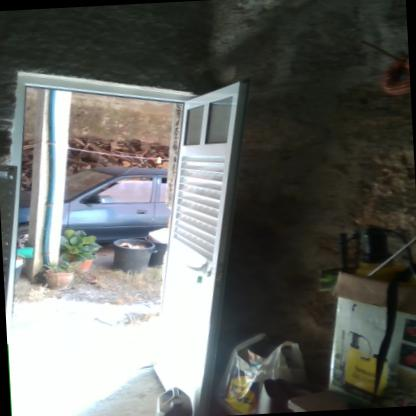open: (0, 54, 273, 415)
